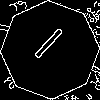I: (25, 25, 66, 68)
